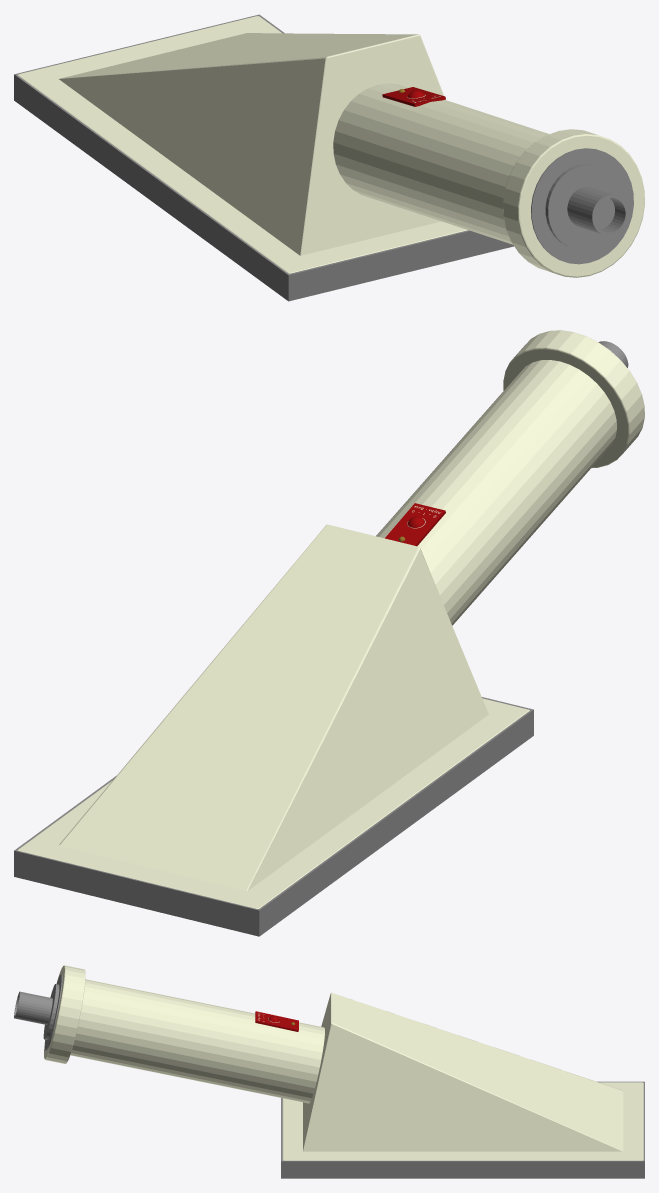
The model's file is SABG100.fbx.
3 renders of one model, top to bottom at view 1: azimuth 30°, elevation 25°; view 2: azimuth 150°, elevation 25°; view 3: azimuth 270°, elevation 25°, orthographic. The views are drawn at different scales.
Parts seen in each view (by area): view 1: Texto.001; view 2: Texto.001; view 3: Texto.001.
Boxes of the visible parts, x1,y1,x2,y2 form: Texto.001: (14,14,644,301); Texto.001: (14,330,644,936); Texto.001: (14,965,644,1178).
Size of the model in its own units: 9.5 by 9.43 by 31.92.
